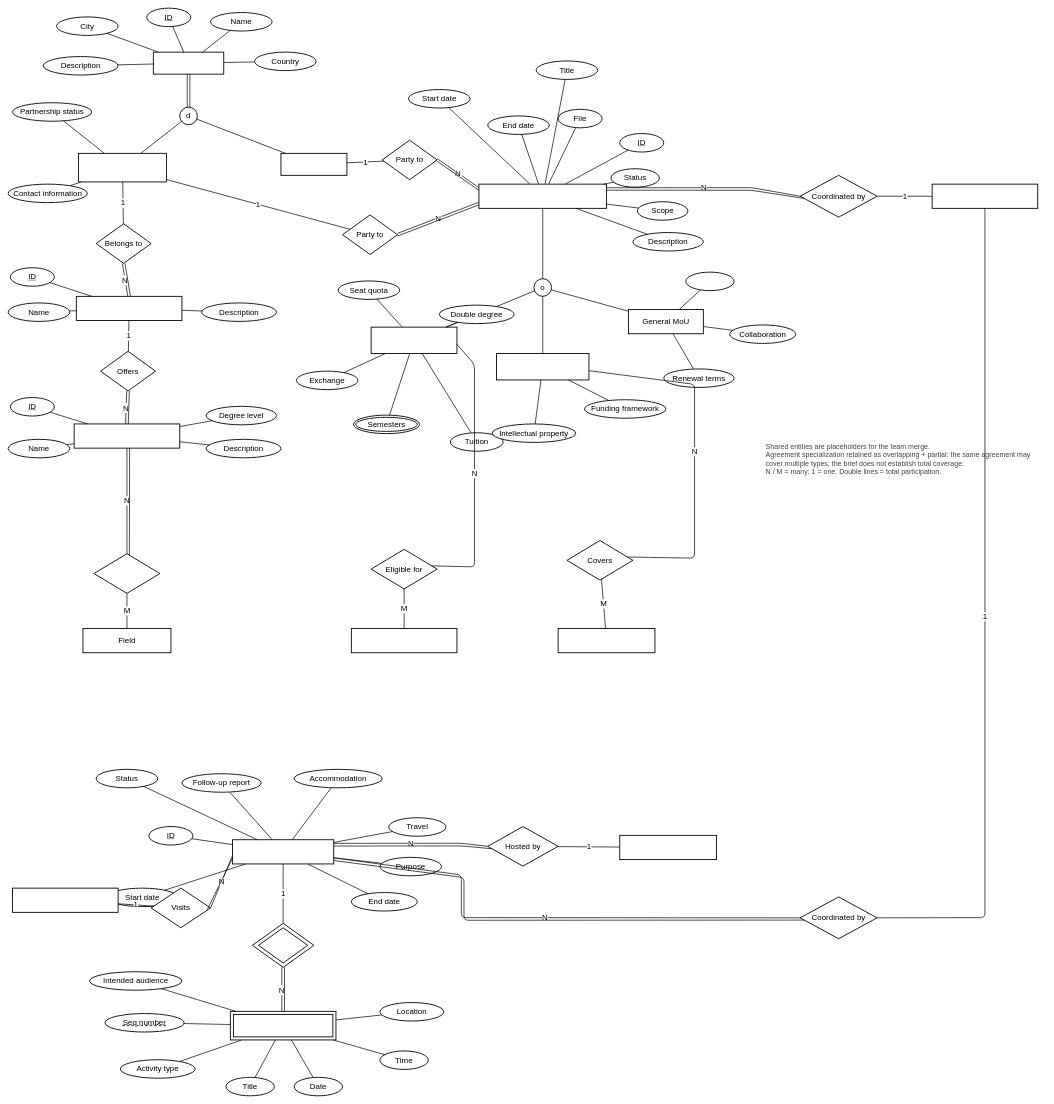
The diagram is 1054 pixels wide and 1104 high, and some of its shapes have lost their labels. Here are the shapes that lost their labels. From the top down, the centre of each, then its label:
At point (188, 62): "University".
At point (122, 167): "Partner University".
At point (313, 164): "GIU".
At point (542, 196): "Cooperation Agreement".
At point (984, 196): "GIU_Academic".
At point (709, 281): "Intent".
At point (129, 308): "Partner Department".
At point (413, 340): "Mobility Agreement".
At point (542, 366): "Research Agreement".
At point (126, 435): "Partner Program".
At point (126, 573): "Classified by".
At point (404, 640): "Program (GIU)".
At point (606, 640): "ResearchArea".
At point (283, 851): "Professor Visit".
At point (668, 847): "Faculty".
At point (65, 900): "PartnerProfessor".
At point (283, 945): "Belongs".
At point (283, 1025): "Agenda Item".
